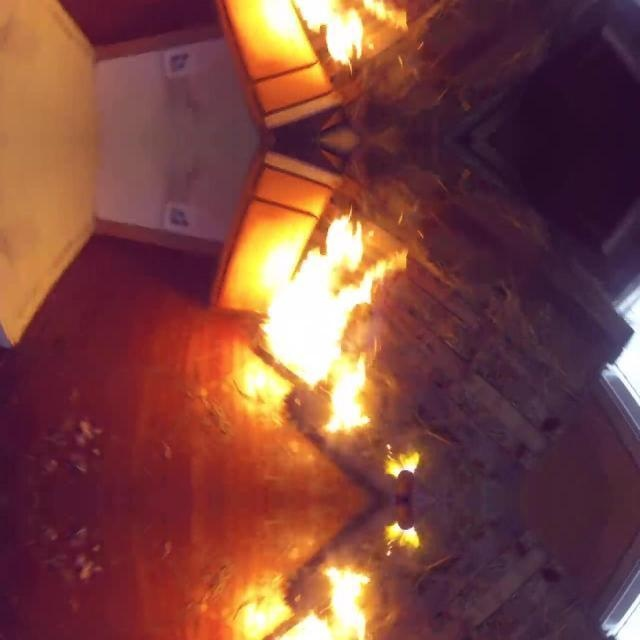fire: (240, 177, 428, 517)
